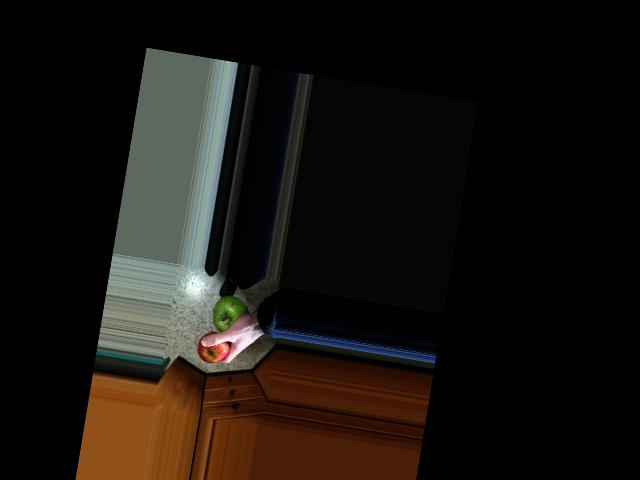apple: (207, 290, 255, 337)
